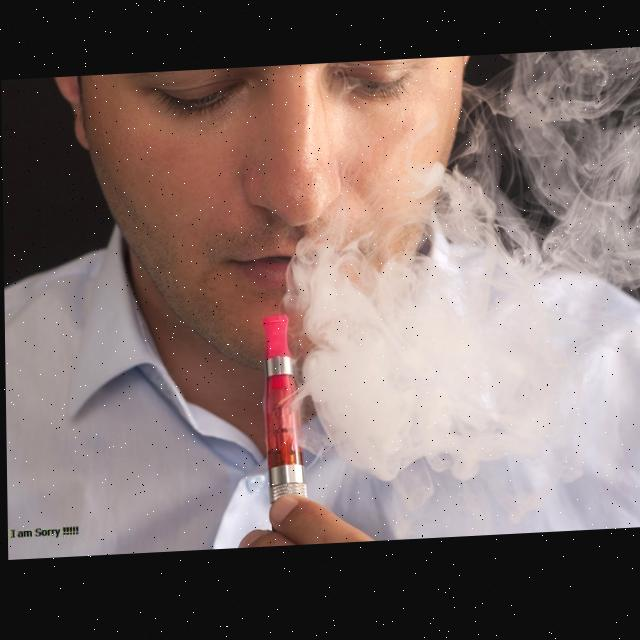vape: (261, 315, 305, 533)
